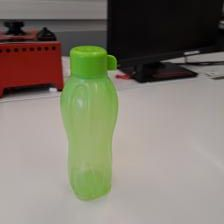bottle: (58, 43, 122, 200)
